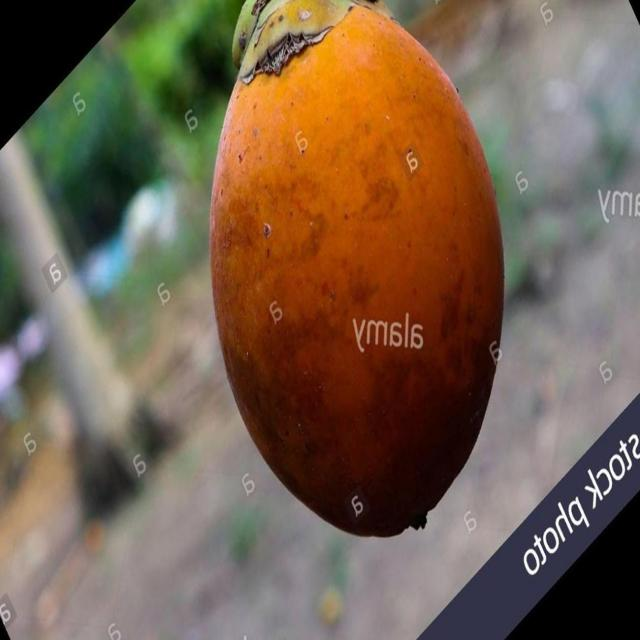good: (208, 0, 505, 540)
